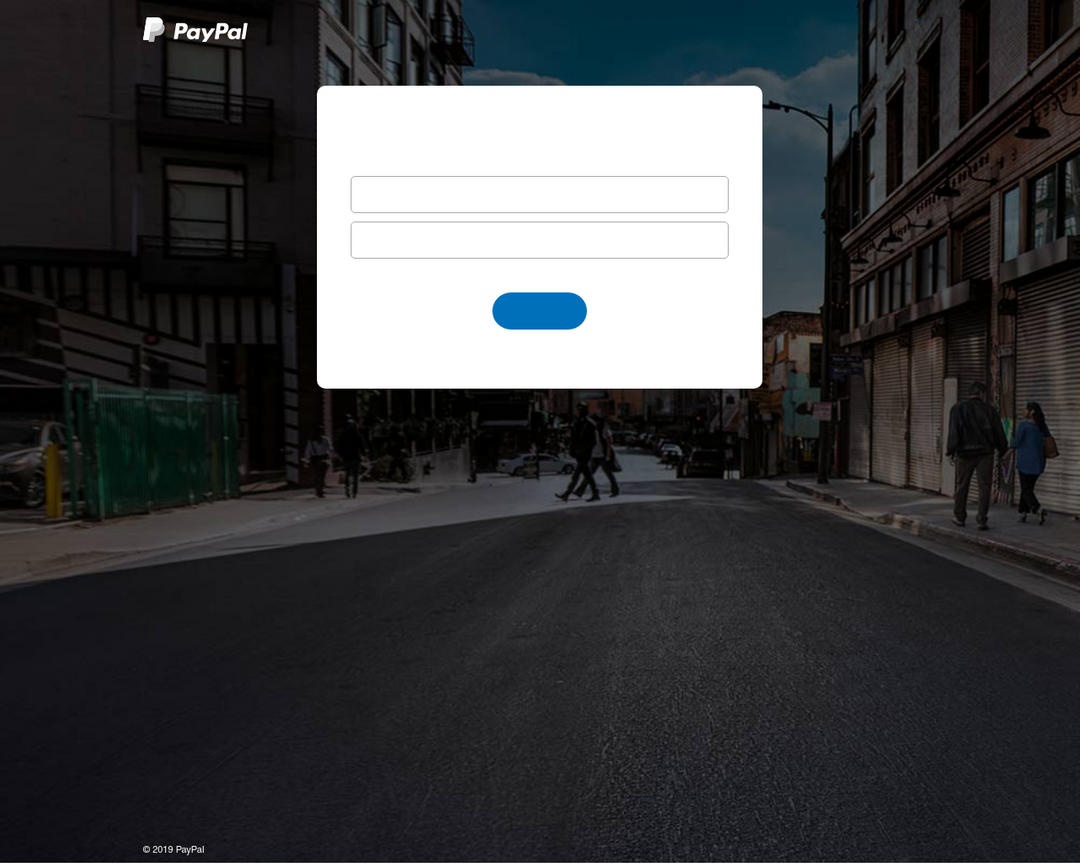Paypal: (135, 15, 251, 49)
